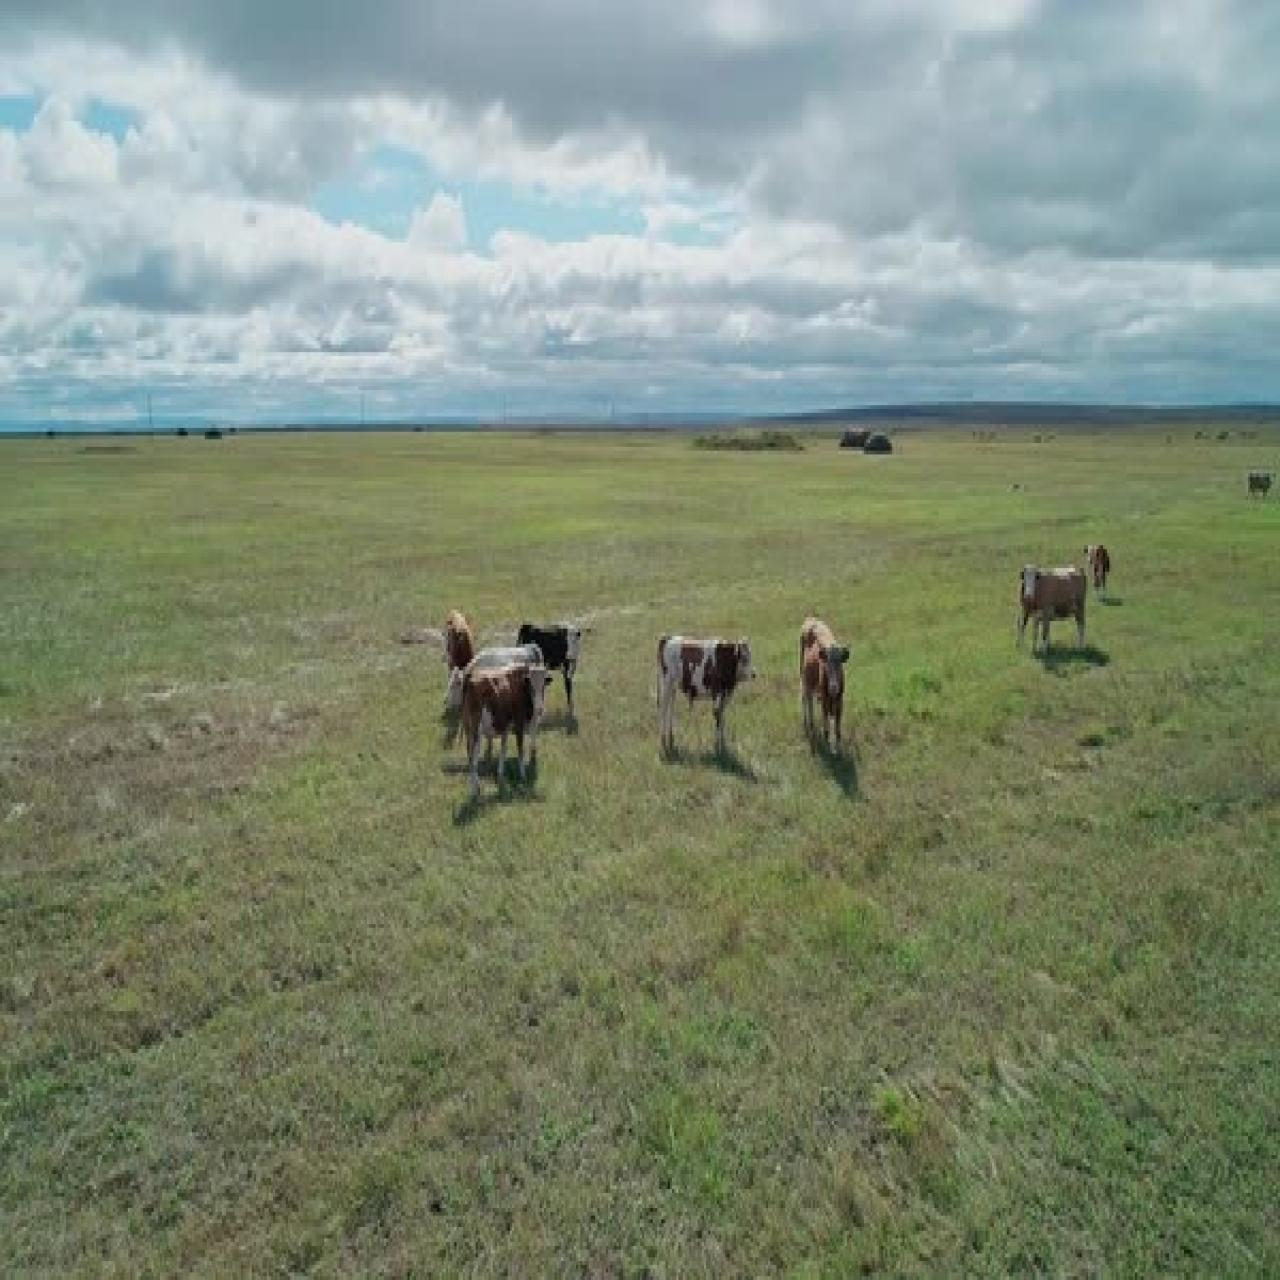cow: (651, 628, 756, 772), (456, 660, 553, 809), (797, 612, 857, 760), (1014, 558, 1090, 655), (436, 641, 551, 703), (516, 610, 592, 700), (441, 592, 476, 679), (1083, 537, 1112, 599)
